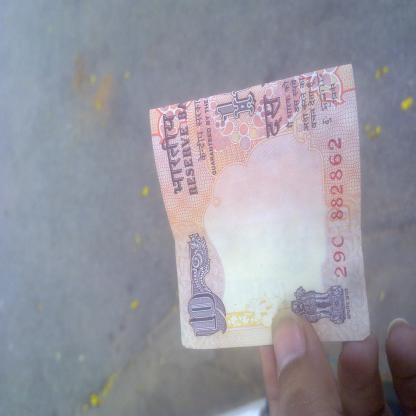Old10Front: (149, 64, 372, 350)
